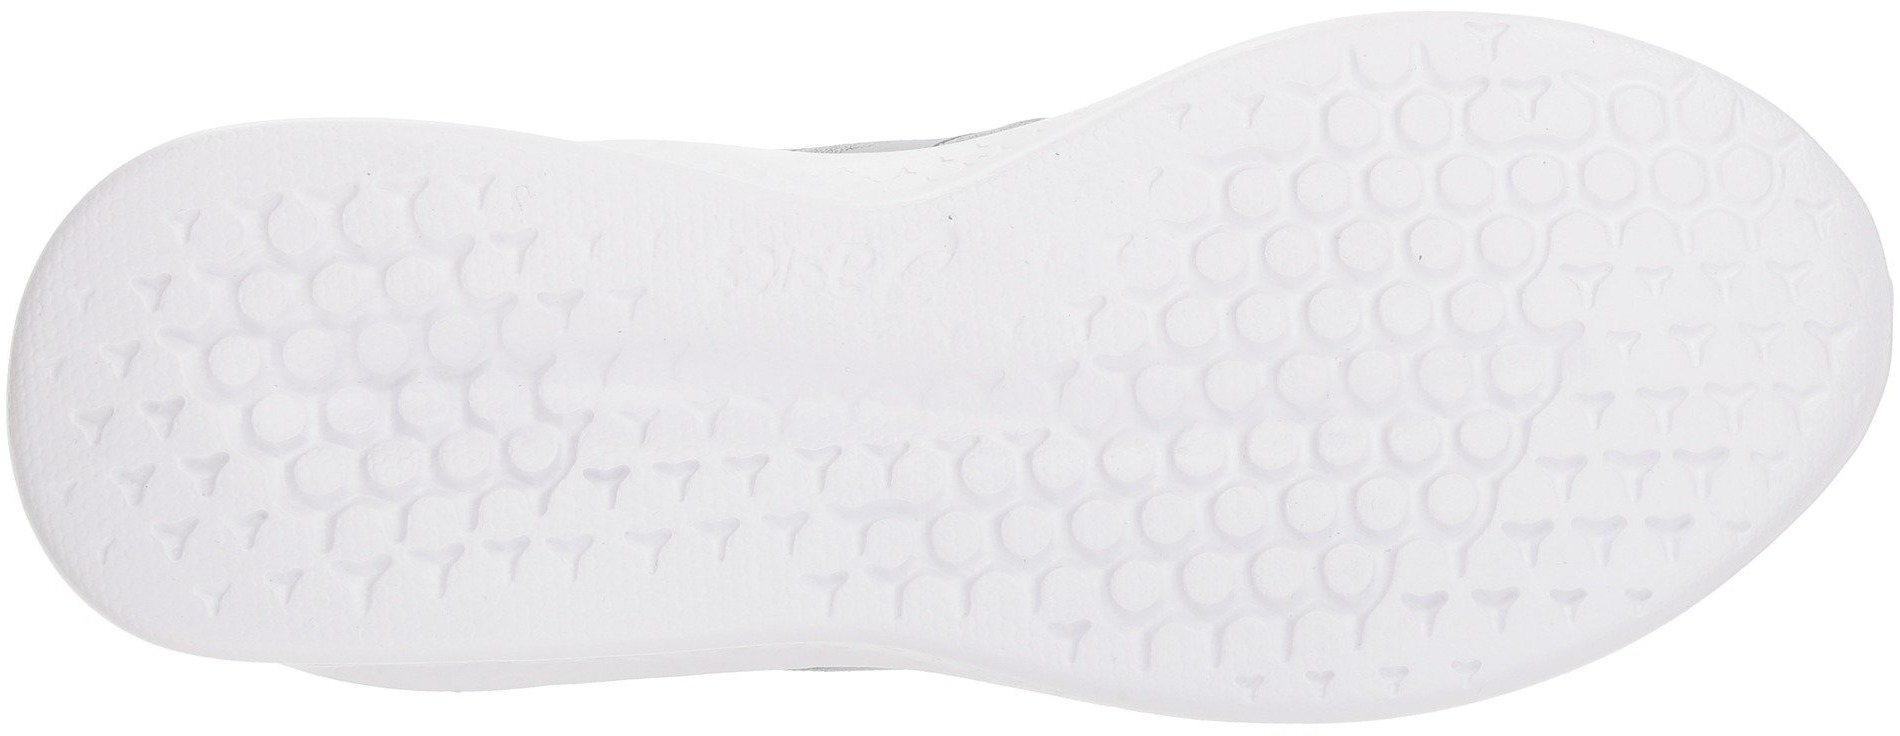circle: (1400, 115, 1664, 456), (424, 243, 739, 527), (135, 227, 412, 532), (839, 377, 1116, 647), (1157, 418, 1393, 657), (1194, 152, 1391, 396), (1404, 462, 1589, 634)
exclude: (285, 641, 1149, 735)
star: (1670, 239, 1865, 443)
text: (712, 213, 841, 333)
